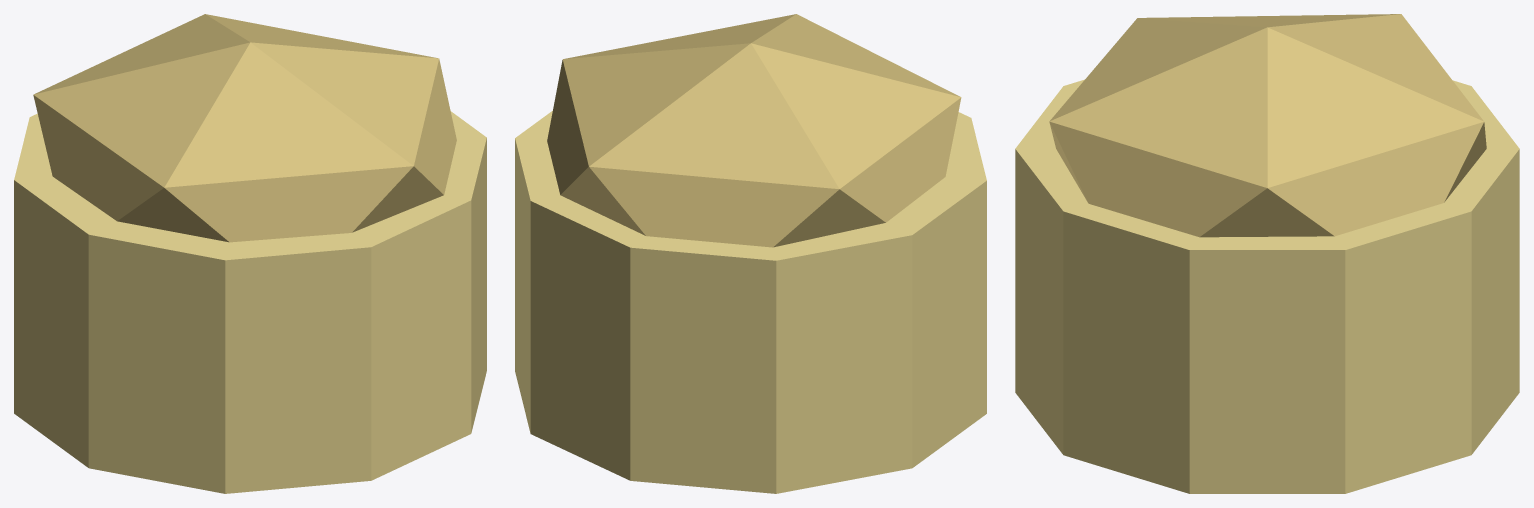
File: haystack.glb
3 views of the same model, side by side, from view 1: azimuth 30°, elevation 25°; view 2: azimuth 150°, elevation 25°; view 3: azimuth 270°, elevation 25° (orthographic). The views are drawn at different scales.
Visible parts, largest first — view 1: Haystack; view 2: Haystack; view 3: Haystack.
Boxes of the visible parts, x1=… form: Haystack: x1=14, y1=14, x2=486, y2=493; Haystack: x1=515, y1=14, x2=986, y2=493; Haystack: x1=1015, y1=14, x2=1519, y2=493.
Bounding box in the file's own units: 2.85 × 2.4 × 3.
